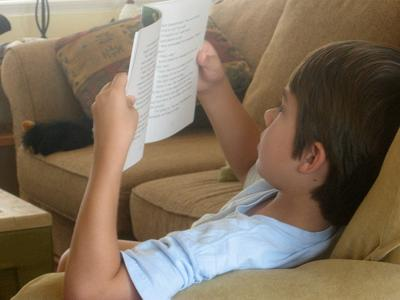person: (57, 38, 400, 300)
